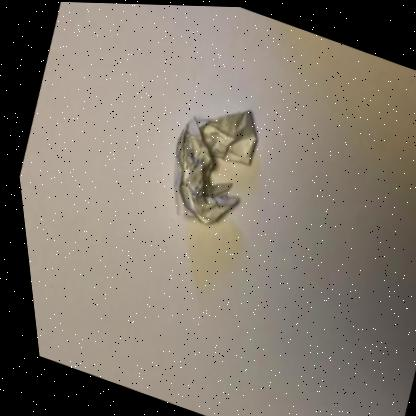Paper: (169, 109, 254, 222)
